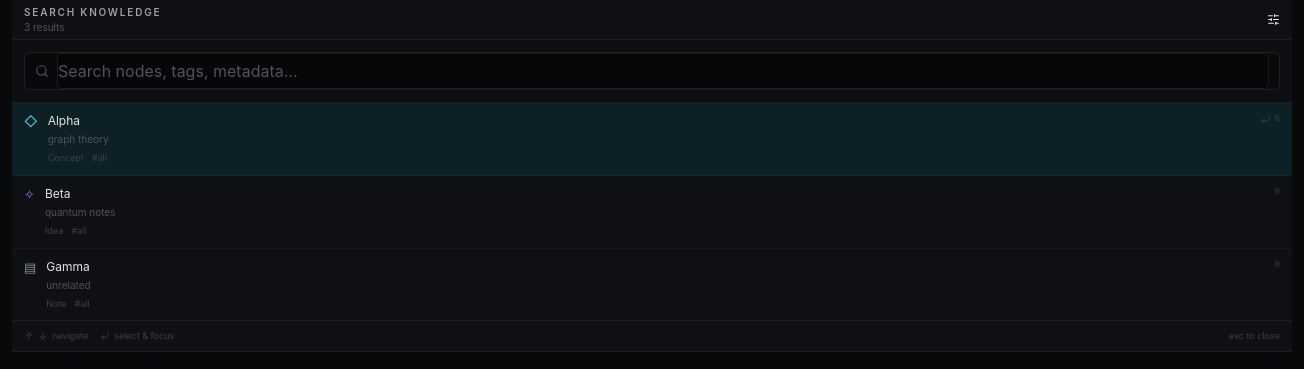
Test: SearchPanel › offers title suggestions while typing
Type "Al" into the field named "Search knowledge" at (663, 71), box x1=57 y1=53 x2=1269 y2=89
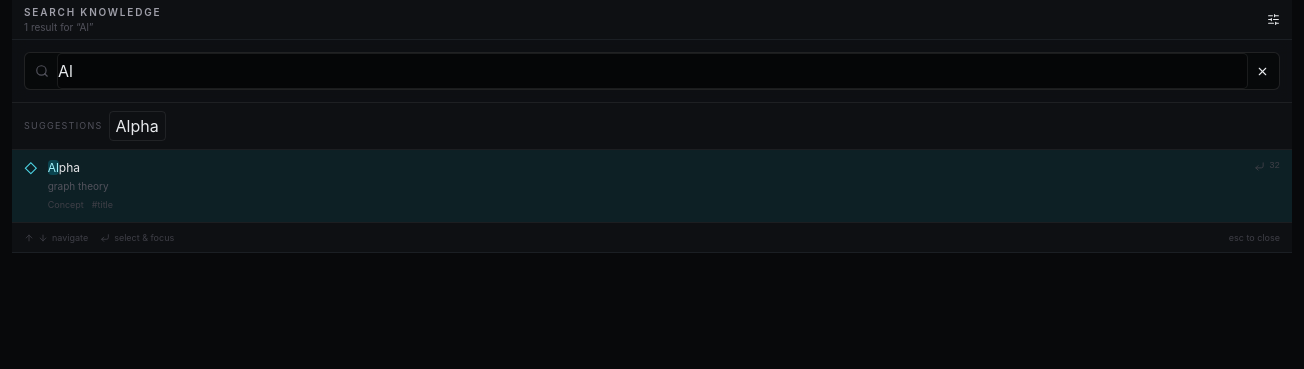
expect the button "Alpha" is shown: met, box x1=109 y1=111 x2=166 y2=141
